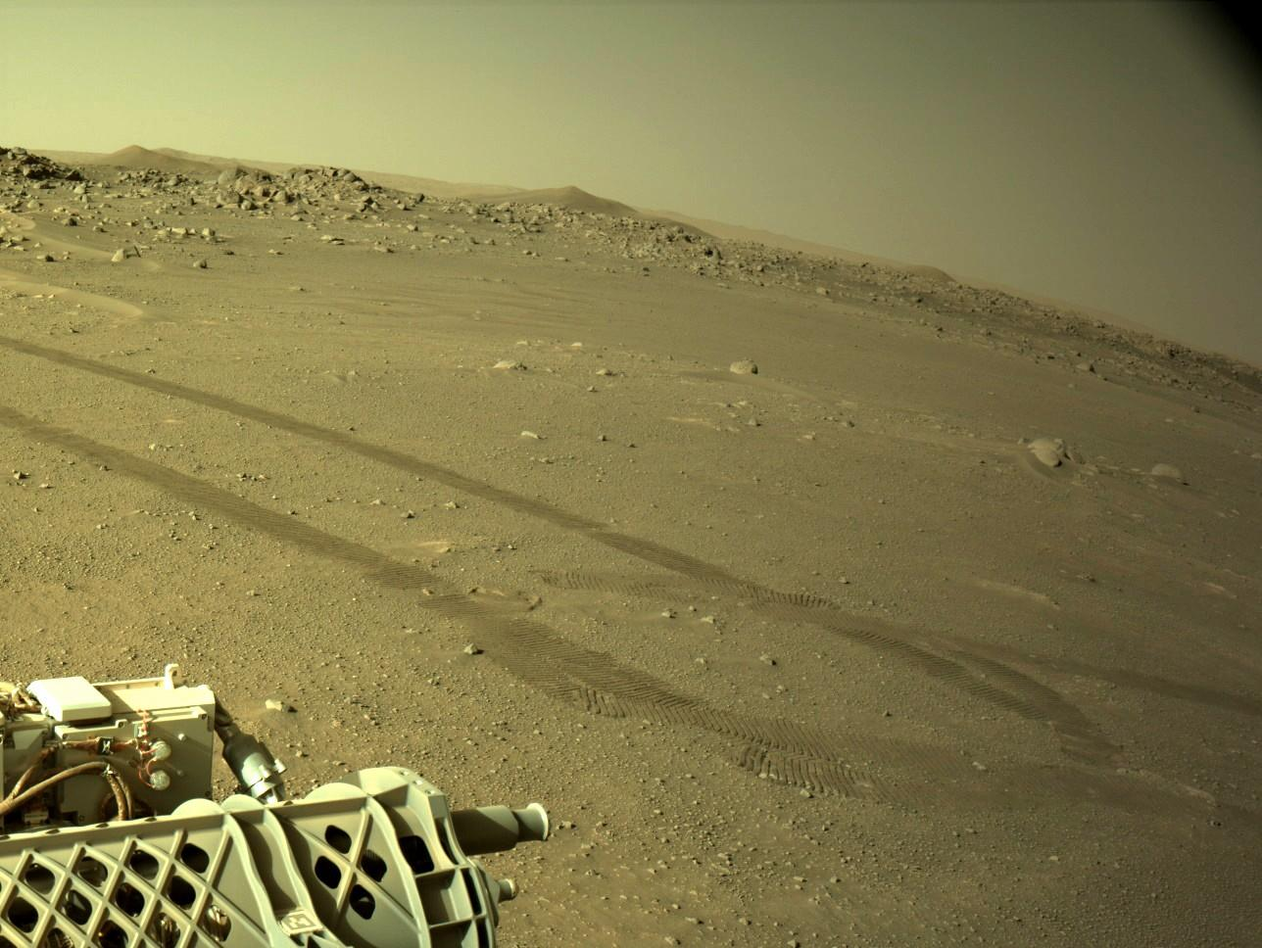bedrock: (685, 225, 1217, 391), (7, 226, 14, 258)
big_rock: (0, 140, 713, 253), (903, 272, 1250, 387)
sand: (207, 247, 425, 269), (1, 256, 15, 570), (536, 274, 652, 294), (61, 294, 136, 313), (1246, 437, 1248, 459)
soil: (10, 297, 1257, 942), (620, 285, 1253, 461), (348, 253, 549, 271), (590, 271, 735, 295), (922, 407, 1007, 425), (311, 288, 356, 295)
